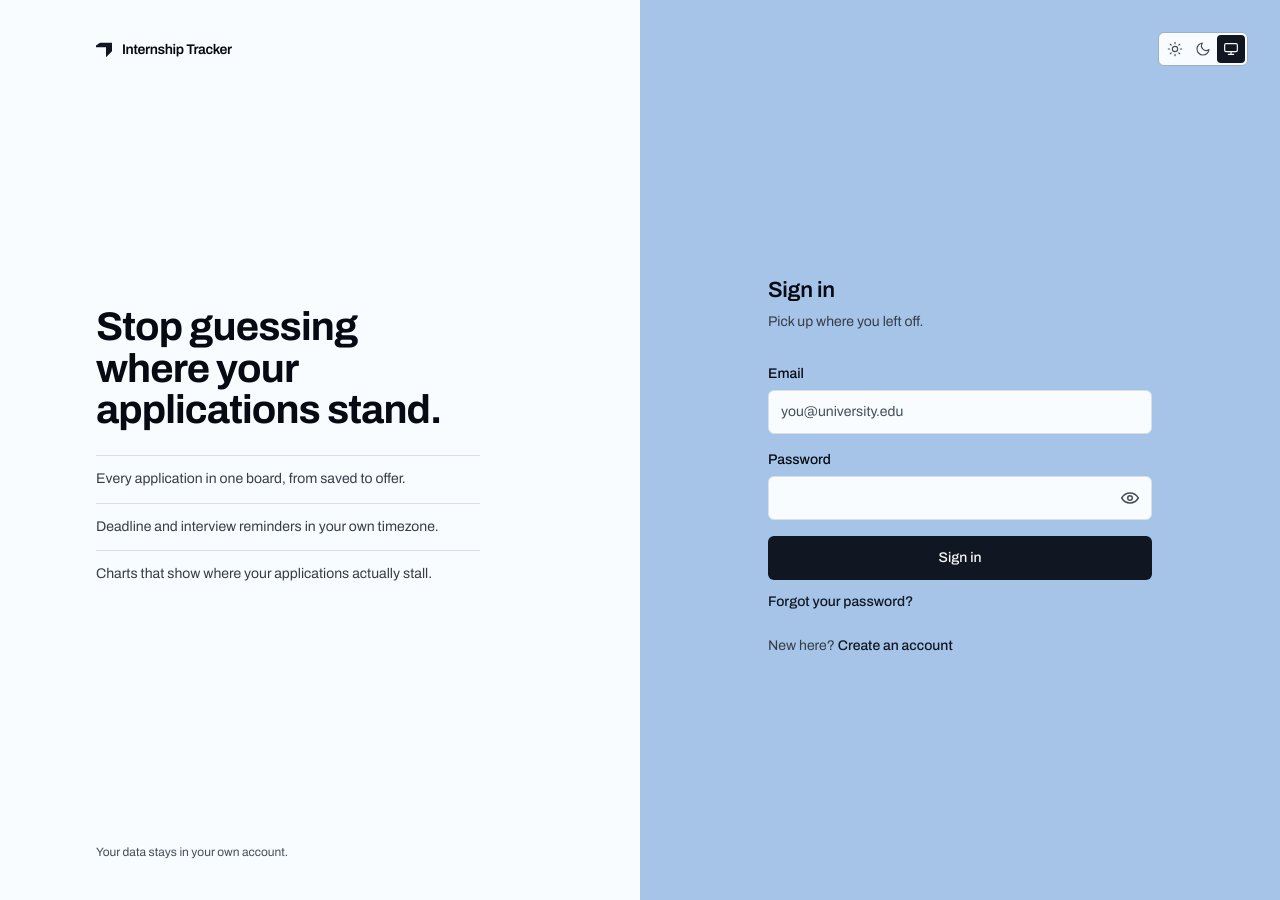
Scenario: signing in to a closed account › leaves the account closed and clears the password on "Keep it closed"
Expected: the button "Sign in" is shown, [768, 536, 1152, 580]
Type "ada@example.test" into the field labelled "Email" at coordinates (960, 412), box [768, 390, 1152, 434]
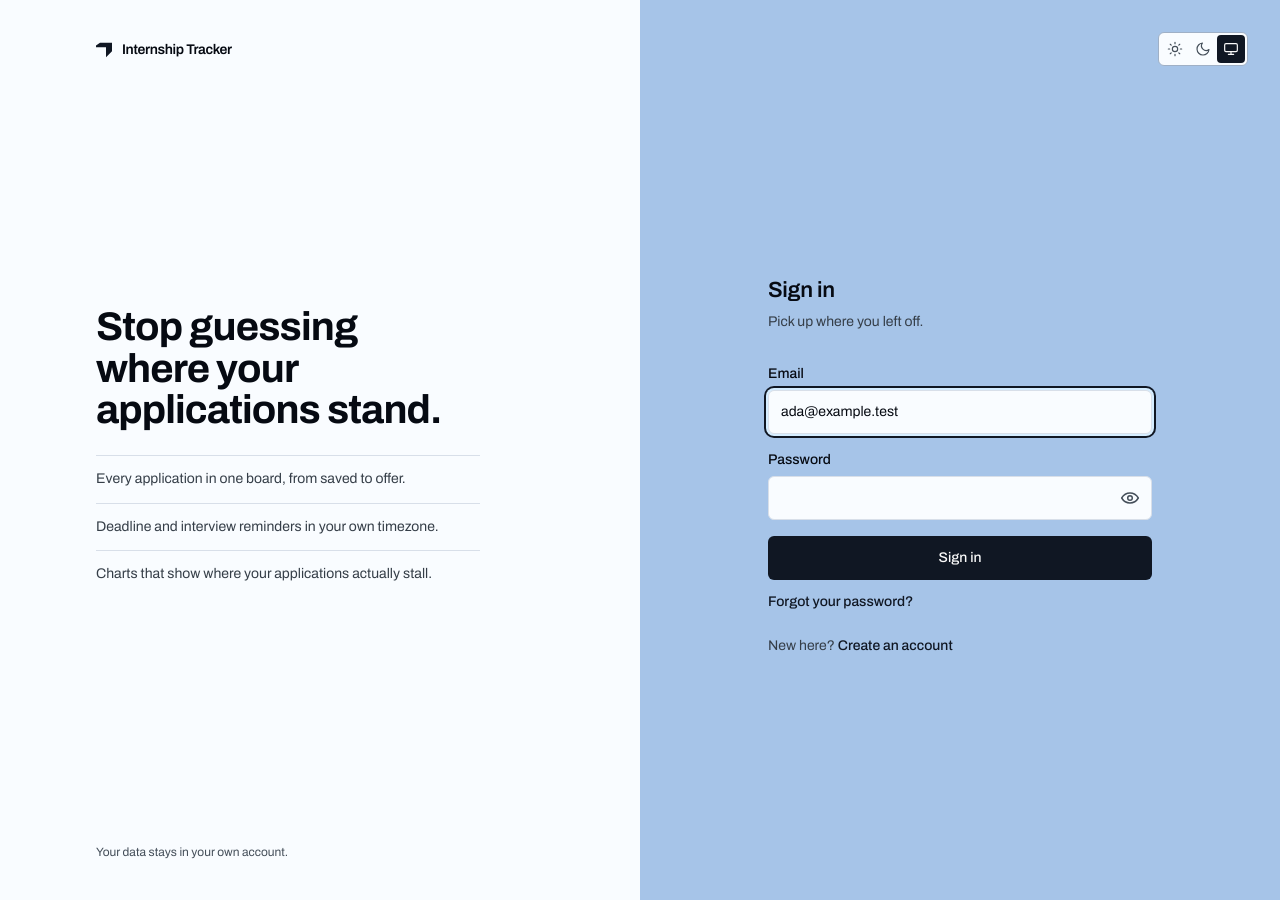
Type "Password1" into the password field labelled "Password" at coordinates (960, 498), box [768, 476, 1152, 520]
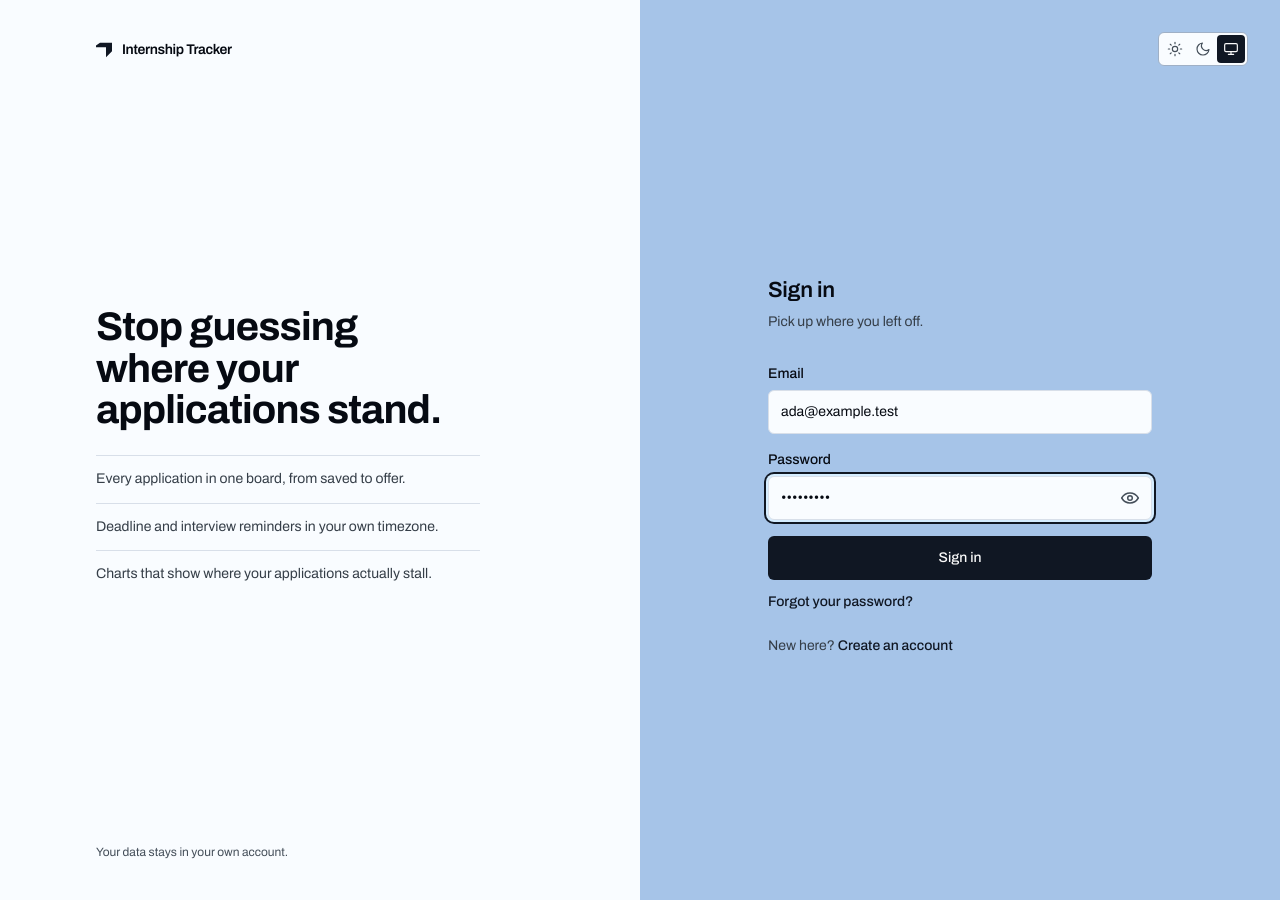
Click the button "Sign in" at coordinates (960, 558), box [768, 536, 1152, 580]
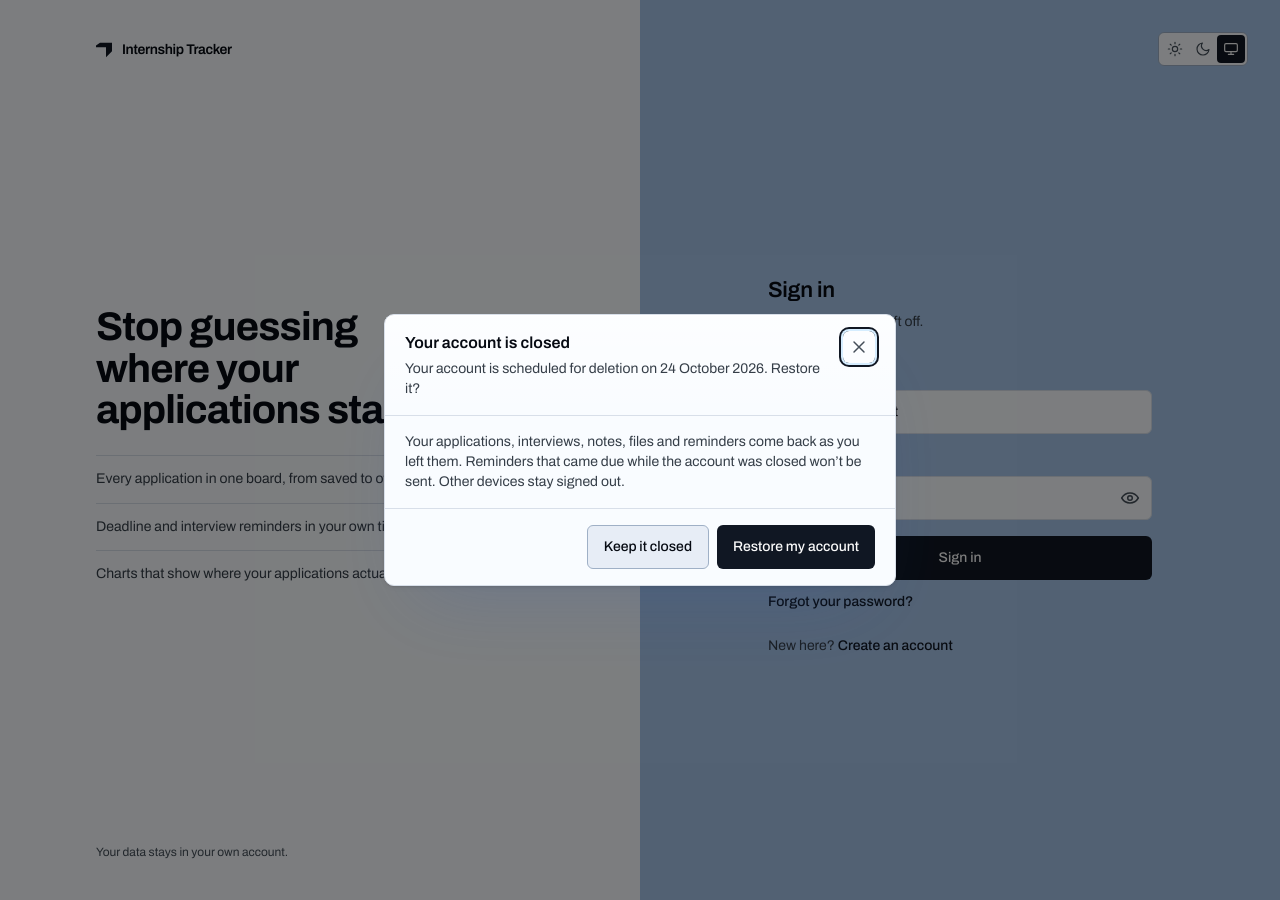
Click the button "Keep it closed" at coordinates (648, 547), box [587, 525, 709, 569]
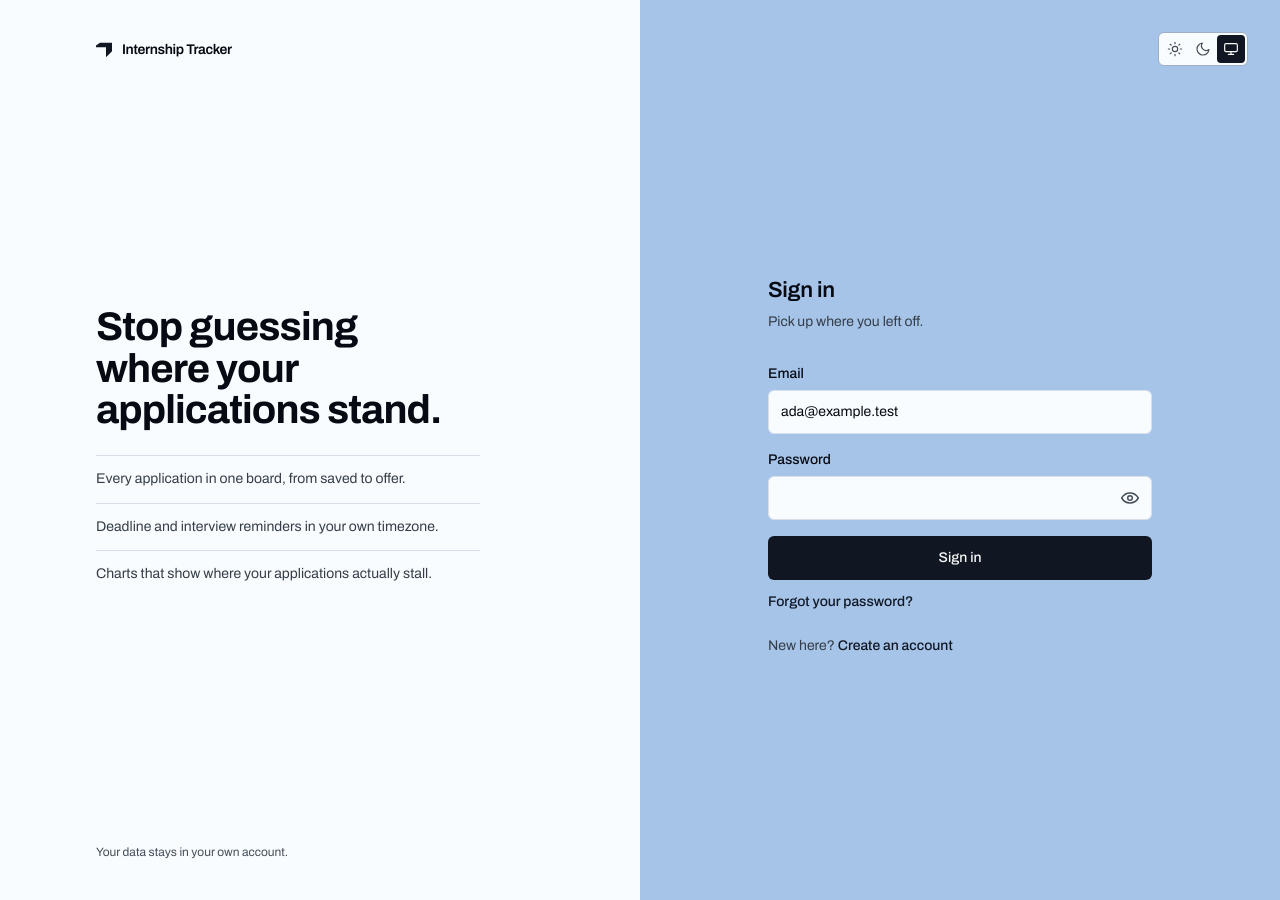
Now the dialog is gone
Now the password field labelled "Password" is empty, box [768, 476, 1152, 520]
